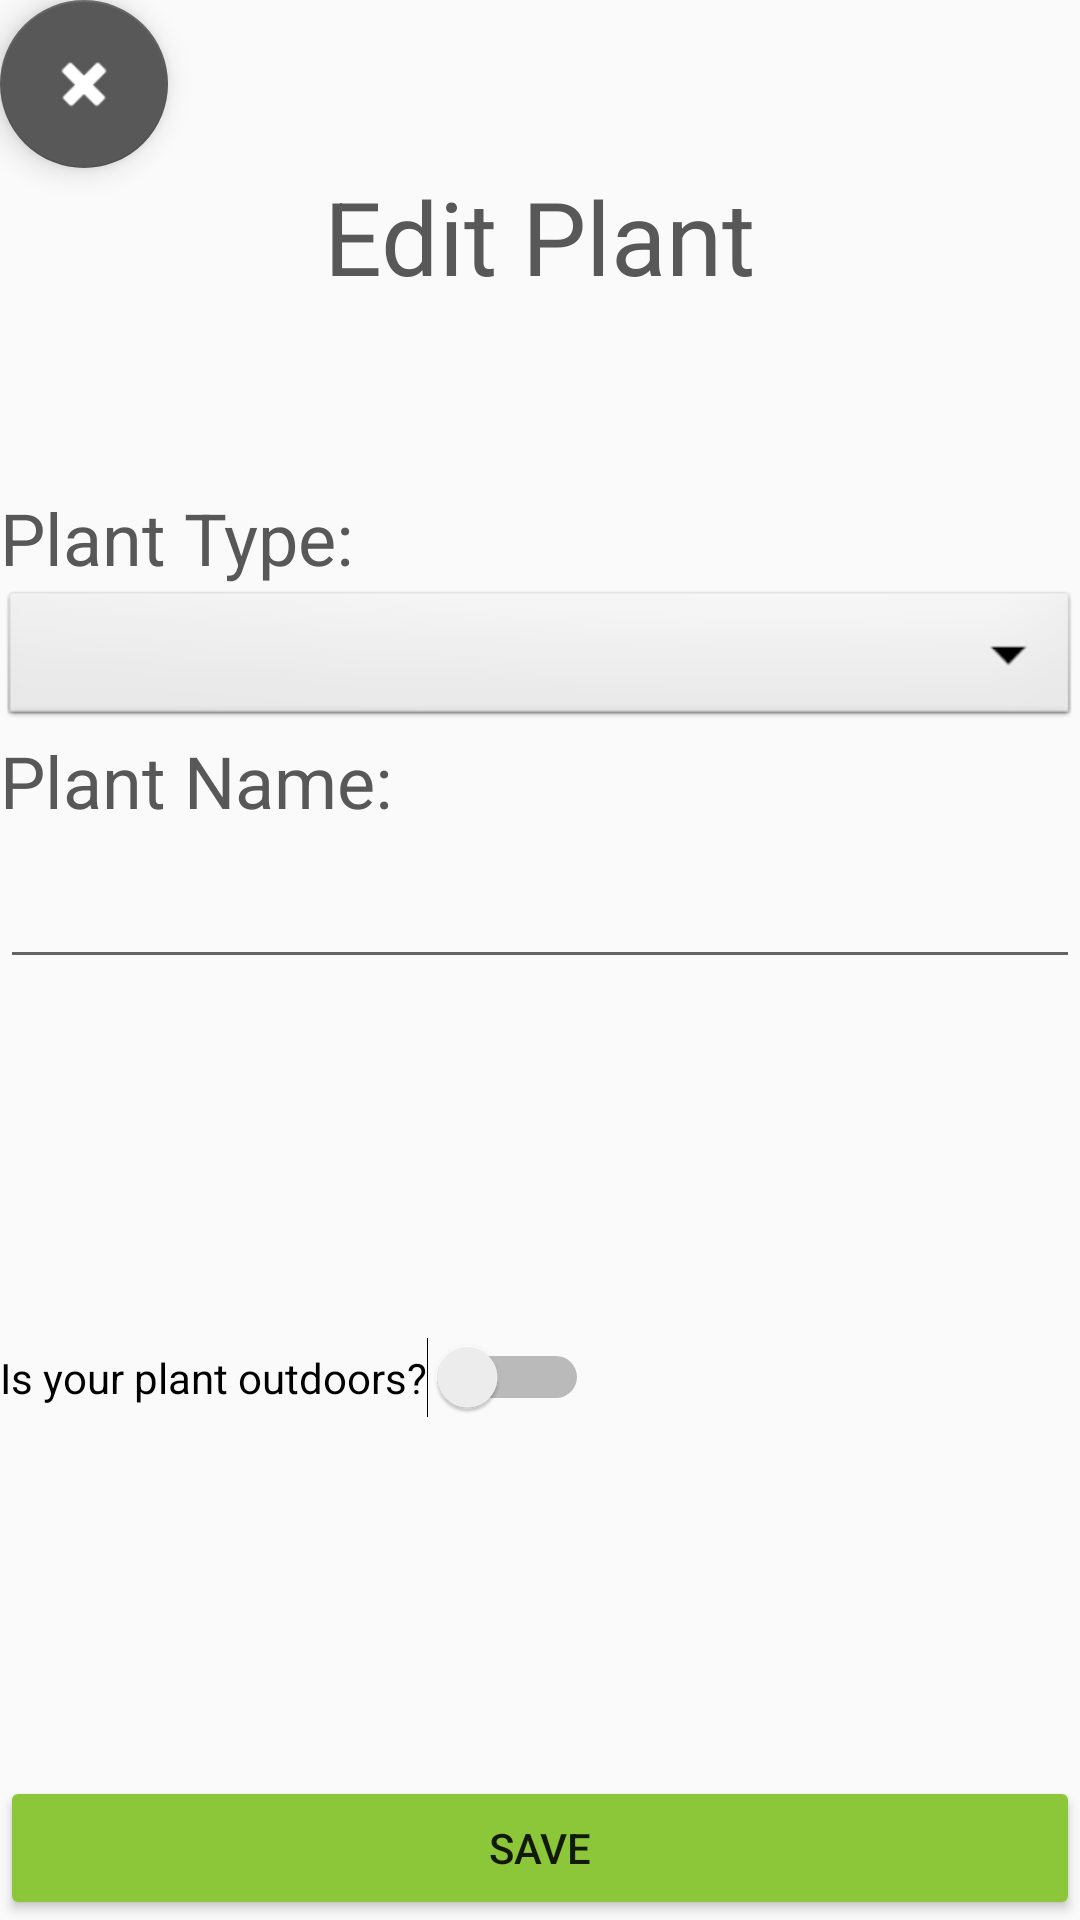

Icon bounding boxes for this 1080px×1920px phone screenshot, format [left=x1, top=y1, right=x2, bottom=y2]:
delete: [left=0, top=0, right=168, bottom=168]
